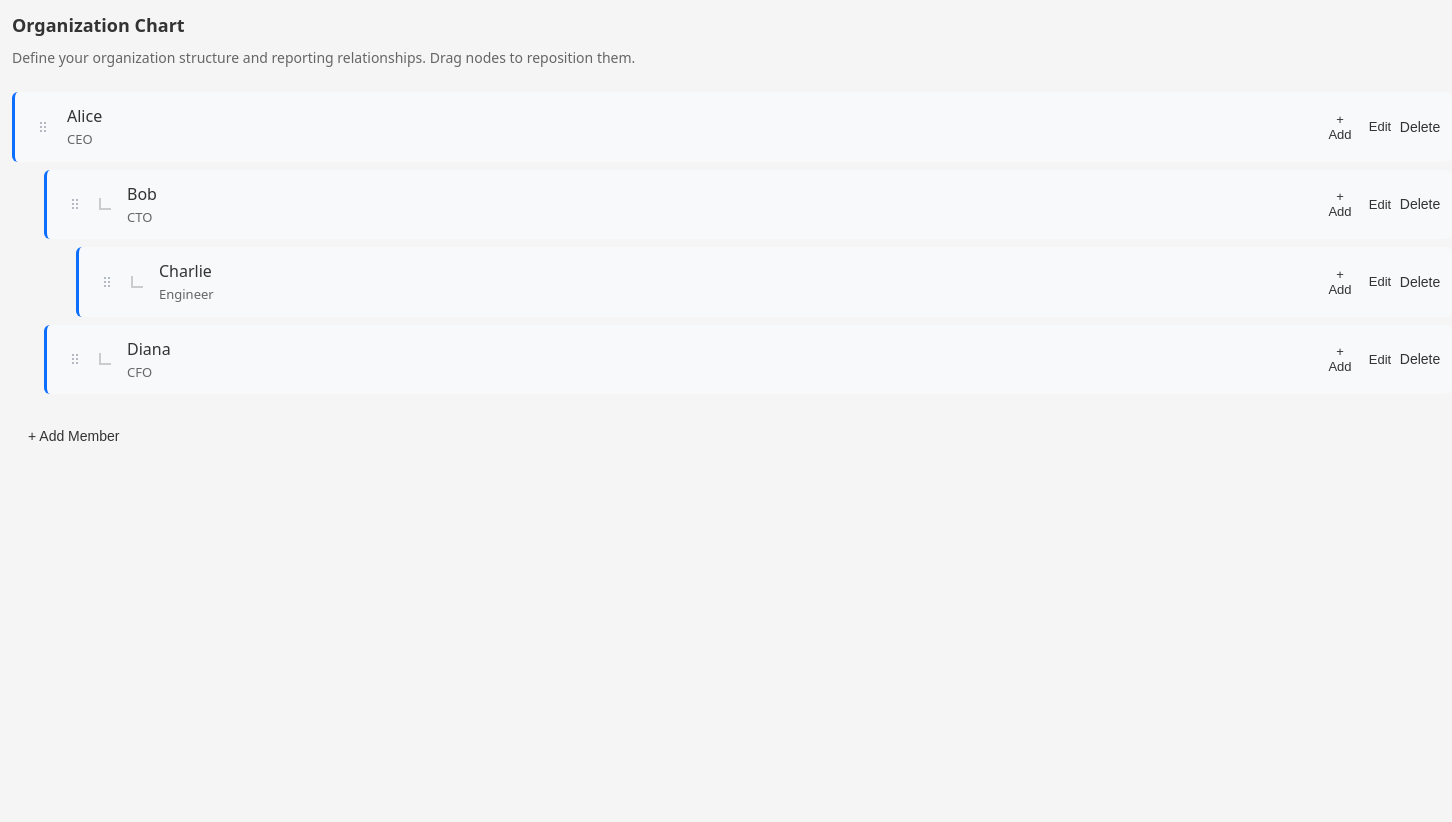
Scenario: OrgChartEditor › Adding nodes › cancels adding when Cancel button is clicked
Step 1. Click the button "+ Add Member" → (74,436), box [12,418,135,454]
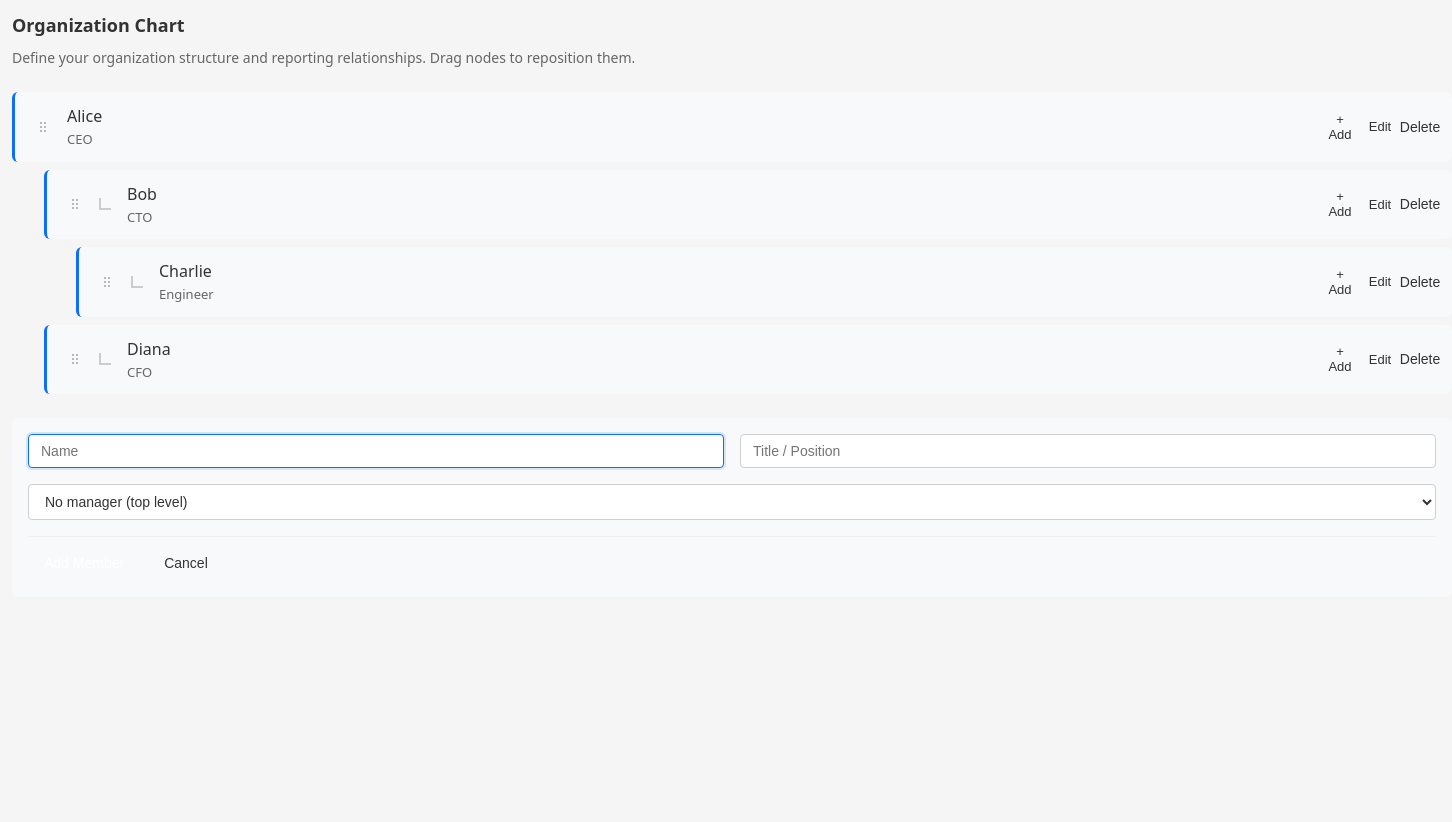
Step 2. Click the button "Cancel" → (186,563), box [148,545,224,581]
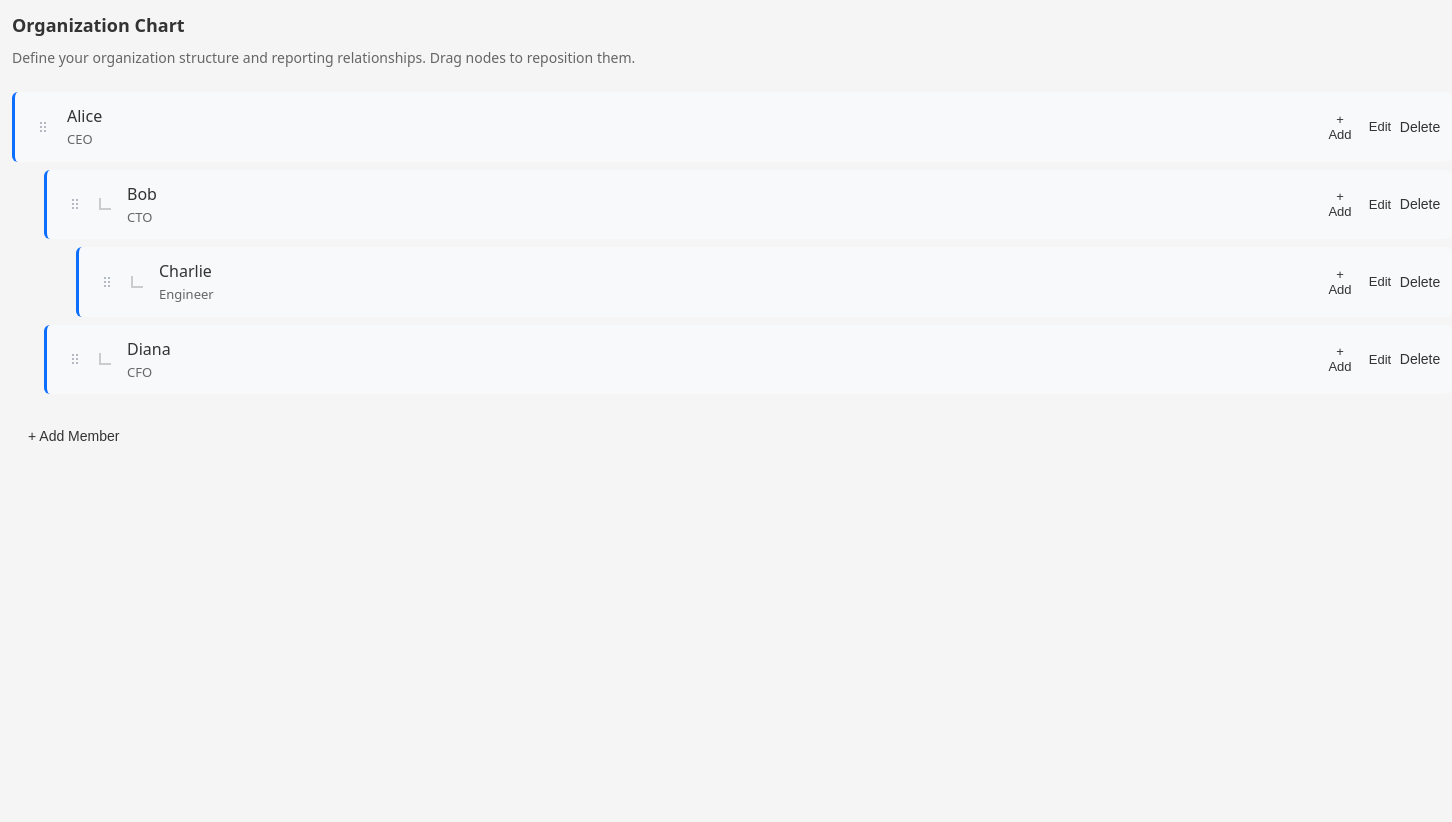
Expected: the field with placeholder "Name" is gone
